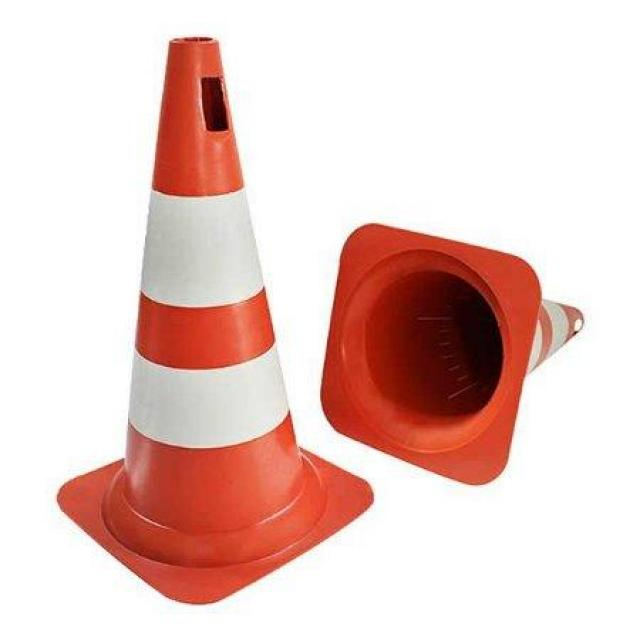cone: (36, 27, 344, 610), (314, 167, 597, 482)
